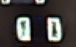COMP: (11, 12, 66, 45)
GAP: (16, 1, 48, 28)
